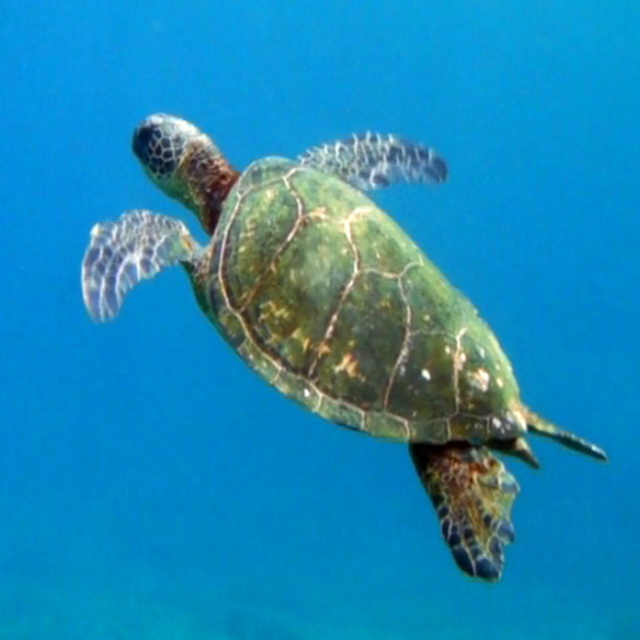Sea turtle: (83, 112, 607, 581)
